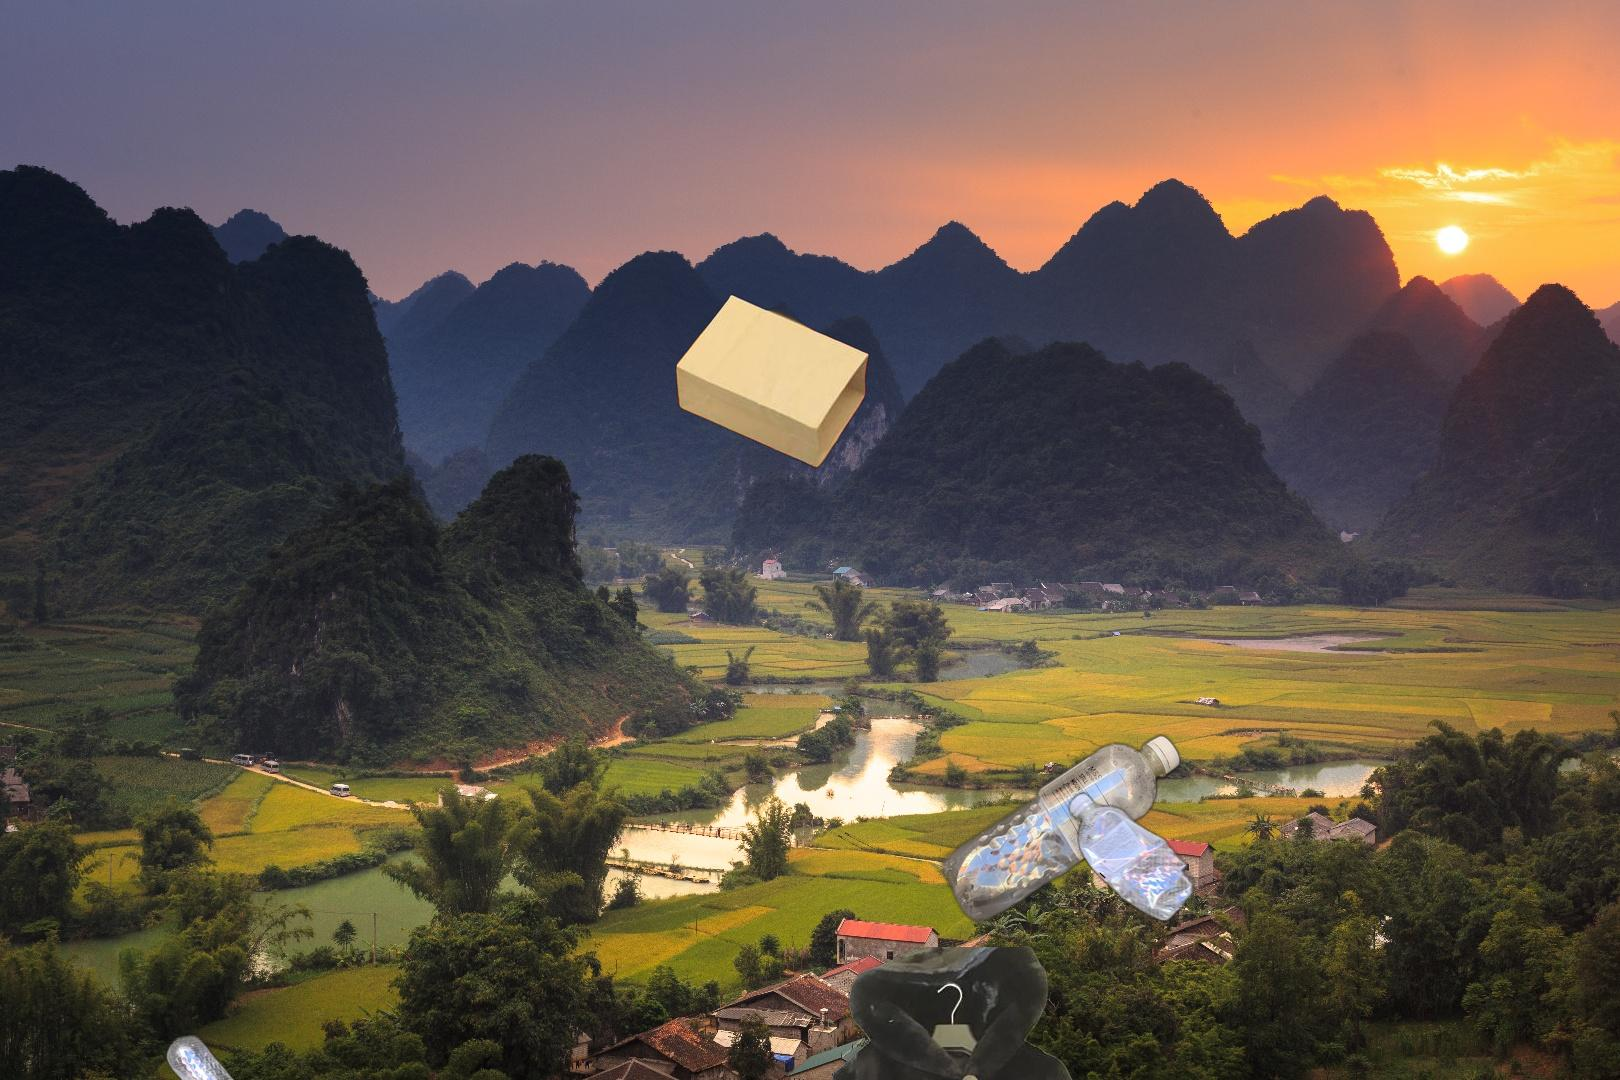clothes: (765, 947, 1166, 1080)
paper-bag: (675, 290, 871, 522)
plastic-bottles: (937, 354, 1184, 1037), (1066, 786, 1199, 928), (162, 1029, 268, 1080)
